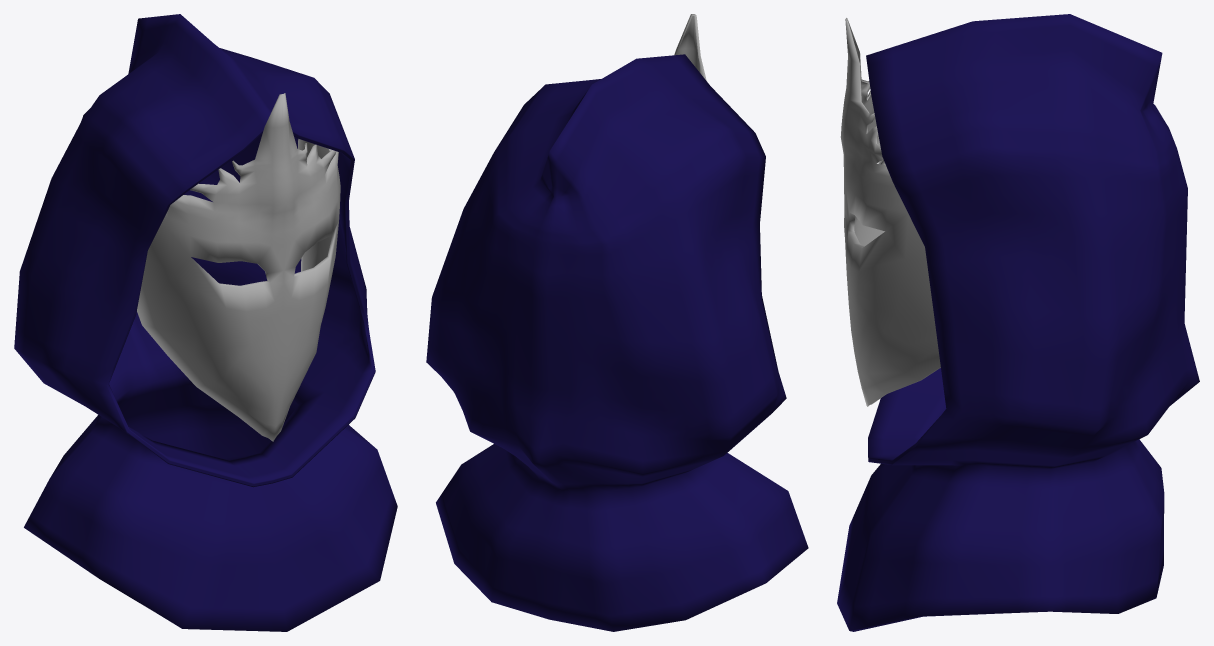
Rendered from guard_mask.fbx.
3 renders of one model, left to right at view 1: azimuth 30°, elevation 25°; view 2: azimuth 150°, elevation 25°; view 3: azimuth 270°, elevation 25°, orthographic. The views are drawn at different scales.
Visible parts, largest first — view 1: GuardMask; view 2: GuardMask; view 3: GuardMask.
Part boxes in pixels (left/top/right/bottom): GuardMask: left=14, top=14, right=397, bottom=631; GuardMask: left=426, top=14, right=808, bottom=631; GuardMask: left=837, top=14, right=1199, bottom=631.
Bounding box in the file's own units: 0.2732 × 0.4259 × 0.2372.
